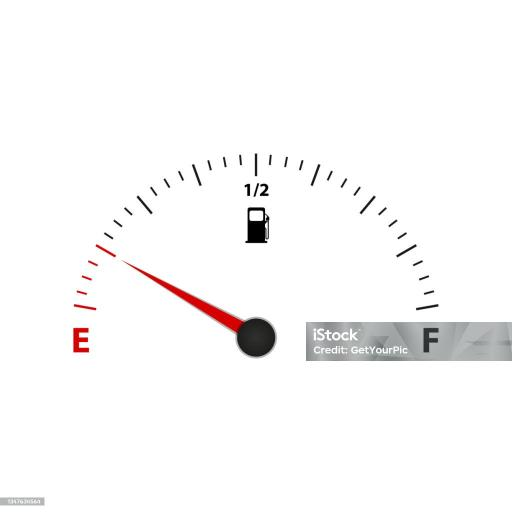empty: (71, 320, 92, 356)
fuel_icon: (239, 206, 273, 246)
full: (419, 324, 443, 356)
guage_area: (67, 146, 452, 375)
needle_center: (229, 313, 284, 365)
needle_tip: (118, 254, 141, 274)
